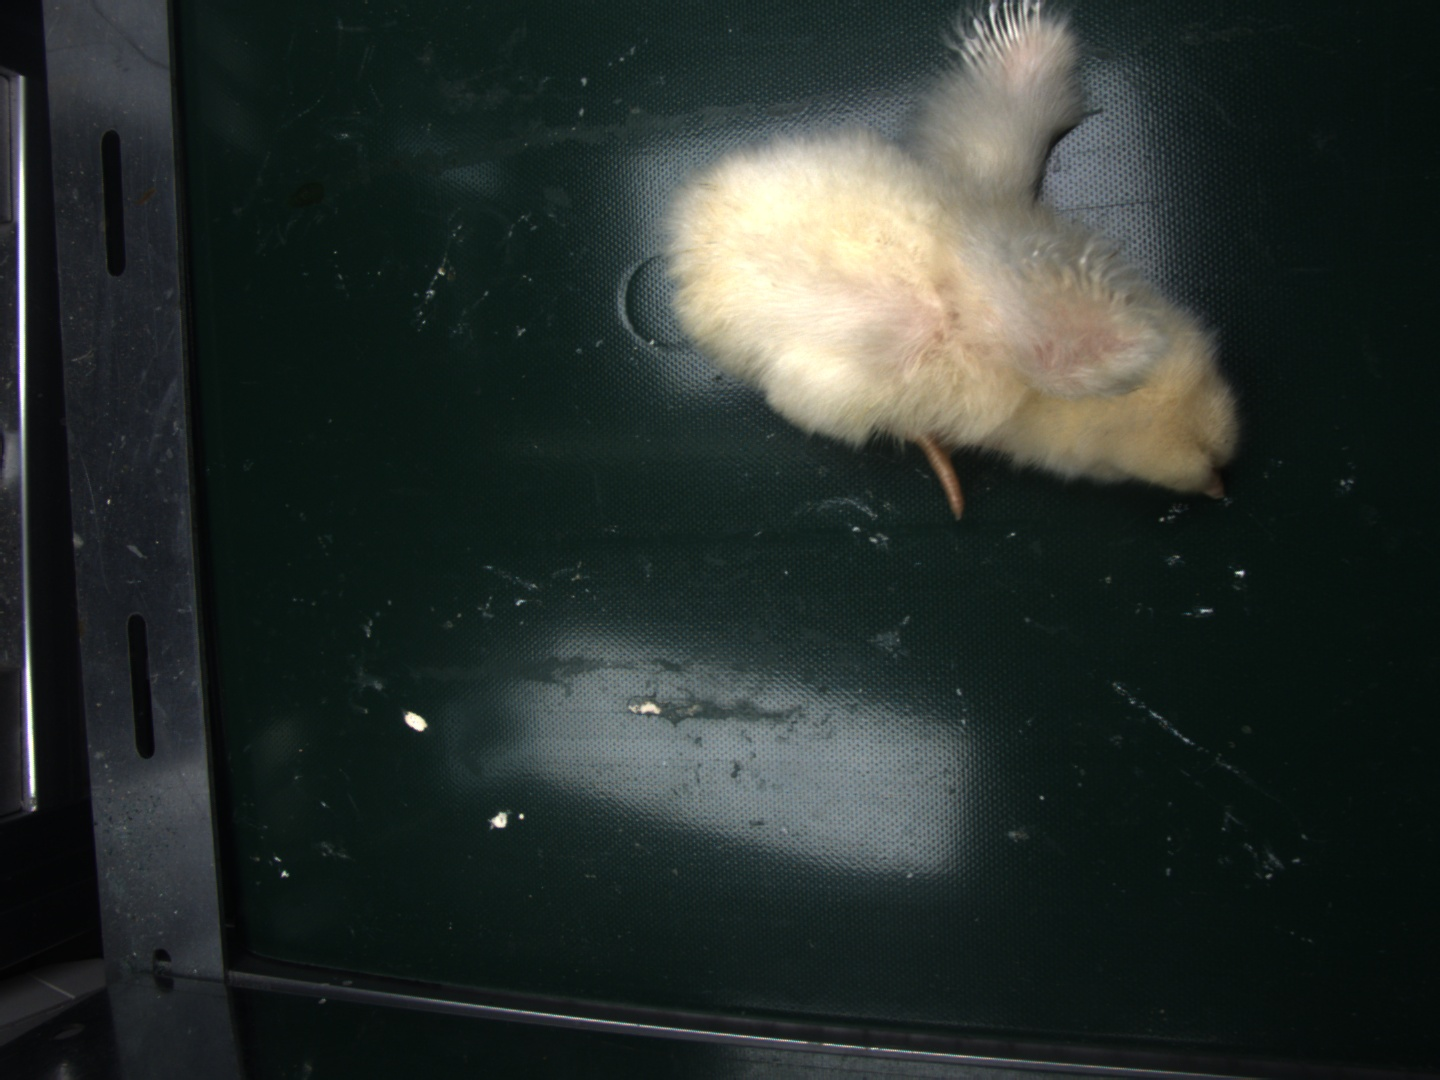male: (965, 3, 1045, 67)
